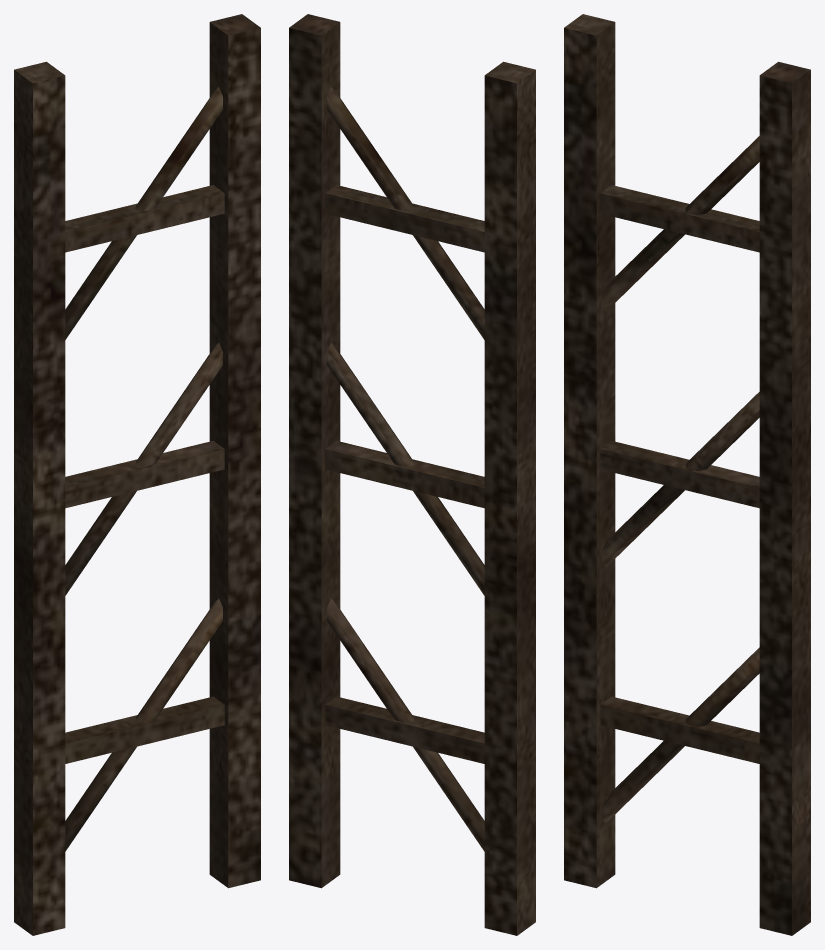
File: coaster_support.glb
The picture shows the model from 3 angles, left to right: view 1: azimuth 30°, elevation 25°; view 2: azimuth 150°, elevation 25°; view 3: azimuth 330°, elevation 25°; orthographic projection.
Parts seen in each view (by area): view 1: Main; view 2: Main; view 3: Main.
Part boxes in pixels (x1,y1,x2,y2): Main: (14, 14, 260, 935); Main: (289, 14, 535, 935); Main: (564, 14, 810, 935).
Size of the model in its own units: 1.4 by 5 by 0.2.
Materials: 1 (1 with a texture image).
